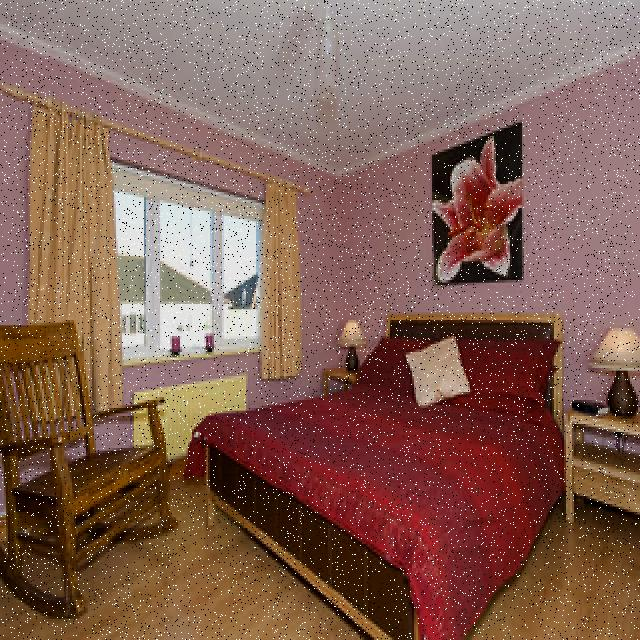bed: (204, 312, 568, 601)
